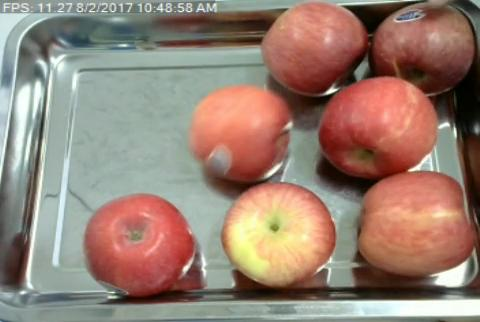apple: (361, 169, 479, 278), (81, 193, 195, 297), (225, 183, 336, 289), (321, 79, 438, 174), (189, 85, 294, 182), (263, 2, 363, 93), (372, 5, 471, 94)
